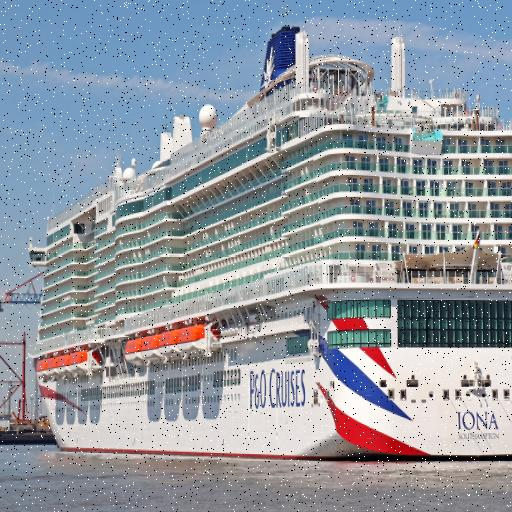cruises: (25, 19, 512, 472)
